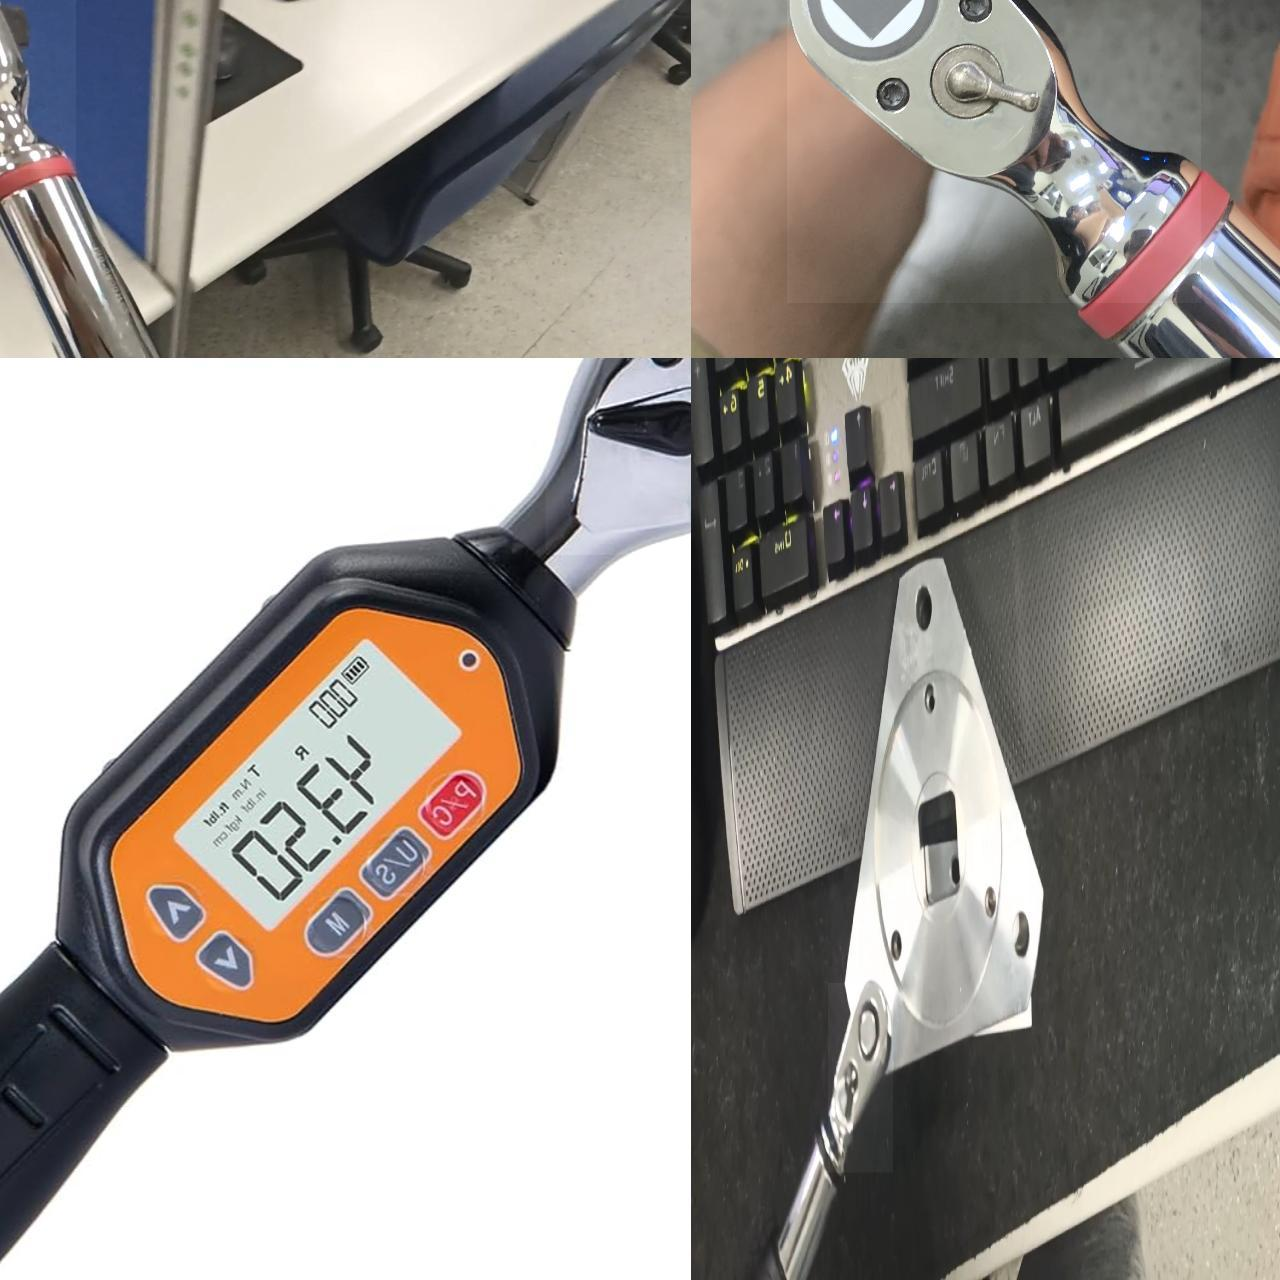Tool: (787, 0, 1201, 302), (545, 358, 692, 554), (0, 0, 76, 169), (828, 982, 893, 1172)
